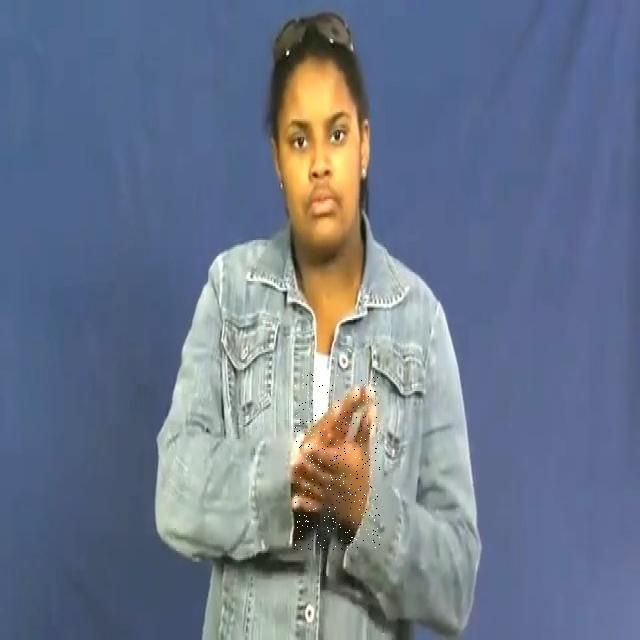tissues: (294, 374, 380, 550)
